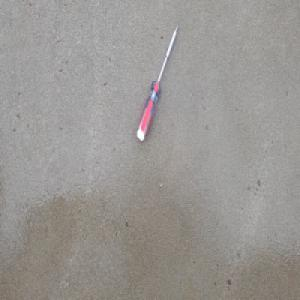Screwdriver: (136, 22, 179, 142)
